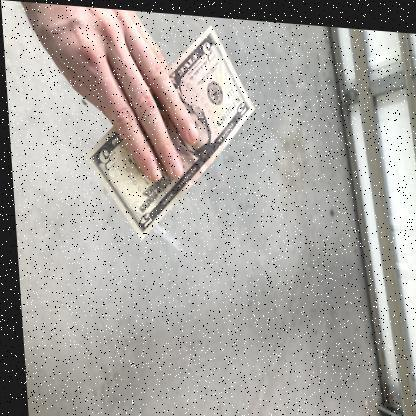dollar_front: (79, 21, 254, 241)
